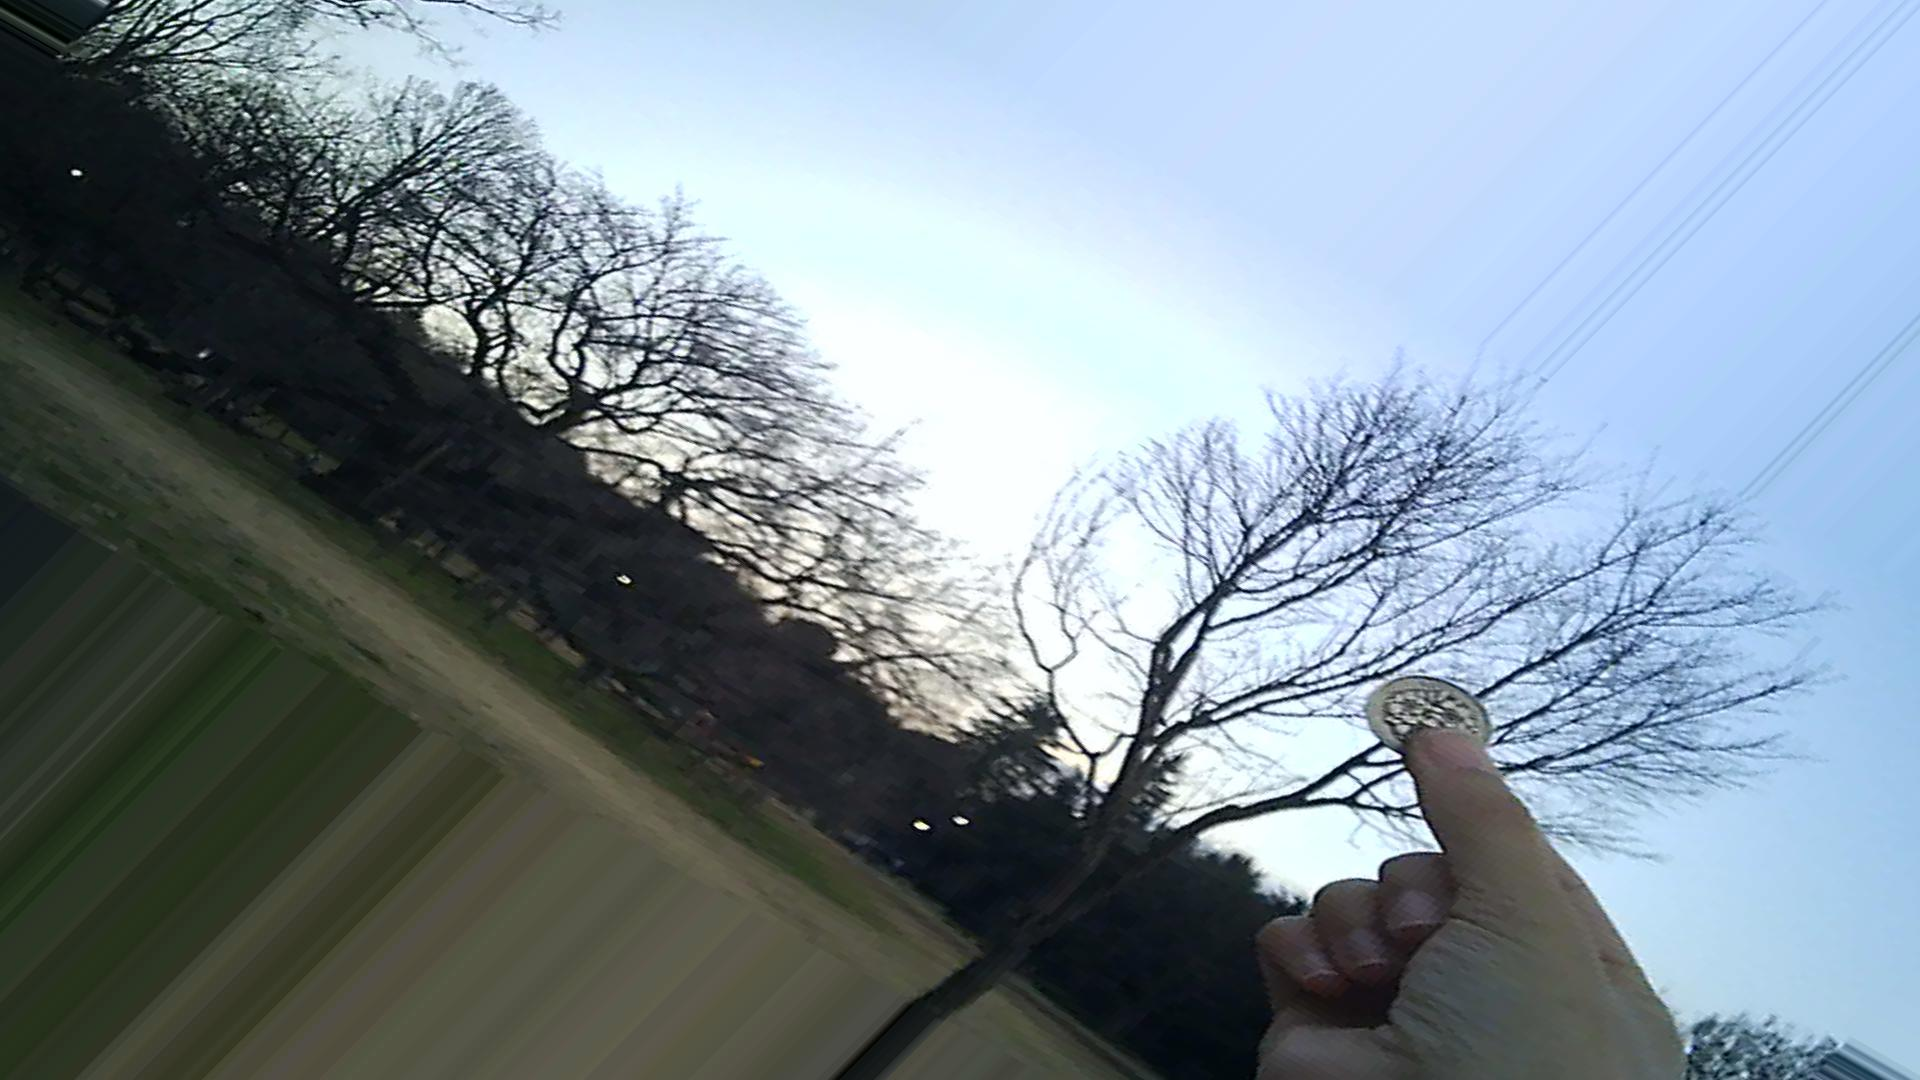100 Yen: (1360, 665, 1487, 760)
